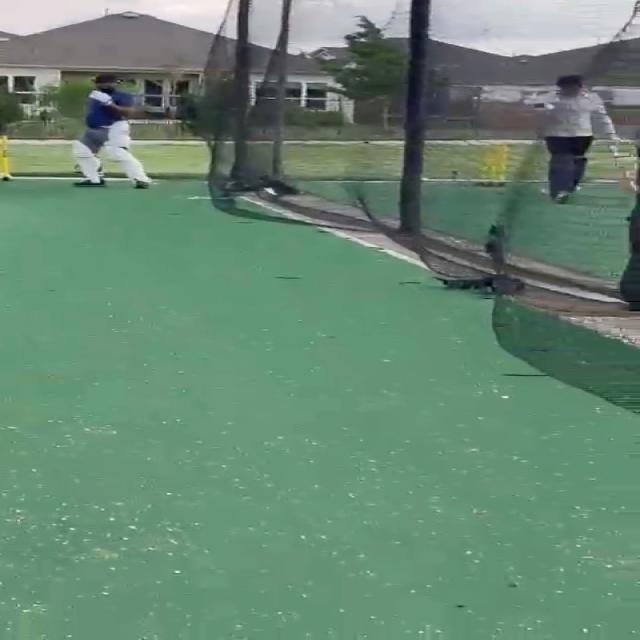batsman: (67, 72, 155, 190)
